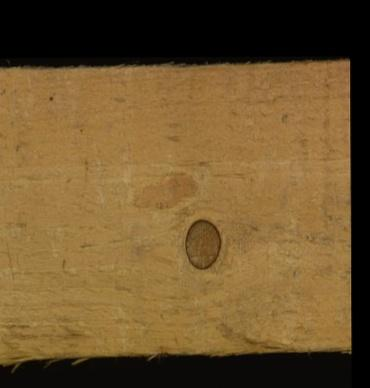dry_knot: (183, 217, 222, 269)
